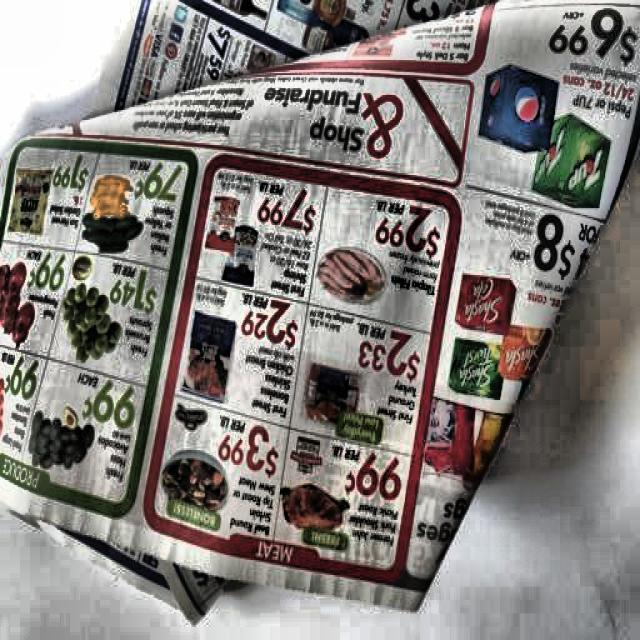paper: (1, 0, 640, 613)
